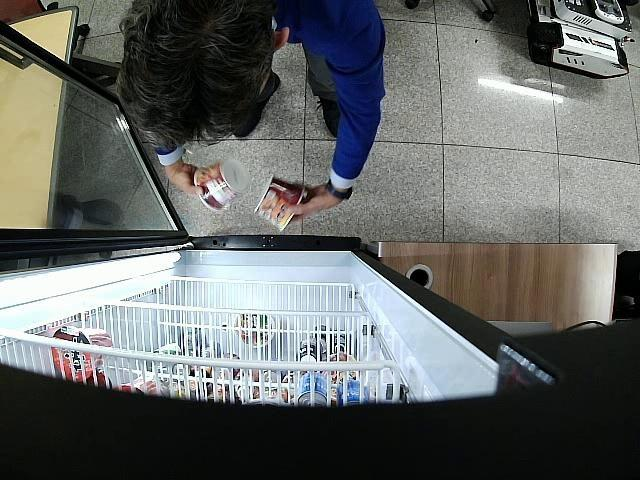05_nuguri_L: (195, 159, 250, 211), (254, 175, 304, 232)
